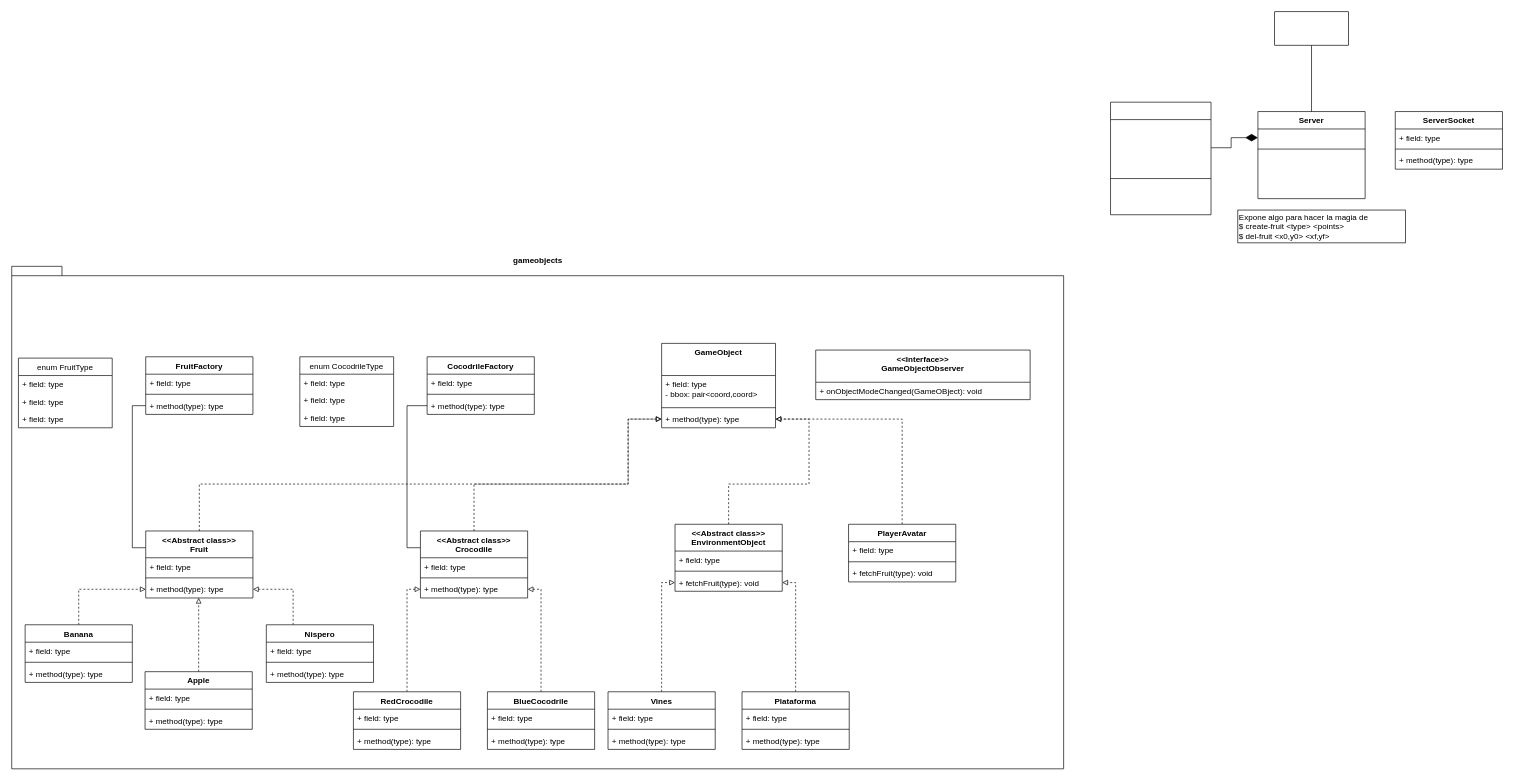
This 1514x781 diagram has some shape labels left out. The shapes that lost their labels are listed below. From the top down, each one's centre as x and y in pixels, then its label:
At (x=1311, y=28): "Main".
At (x=1160, y=158): "Game".
